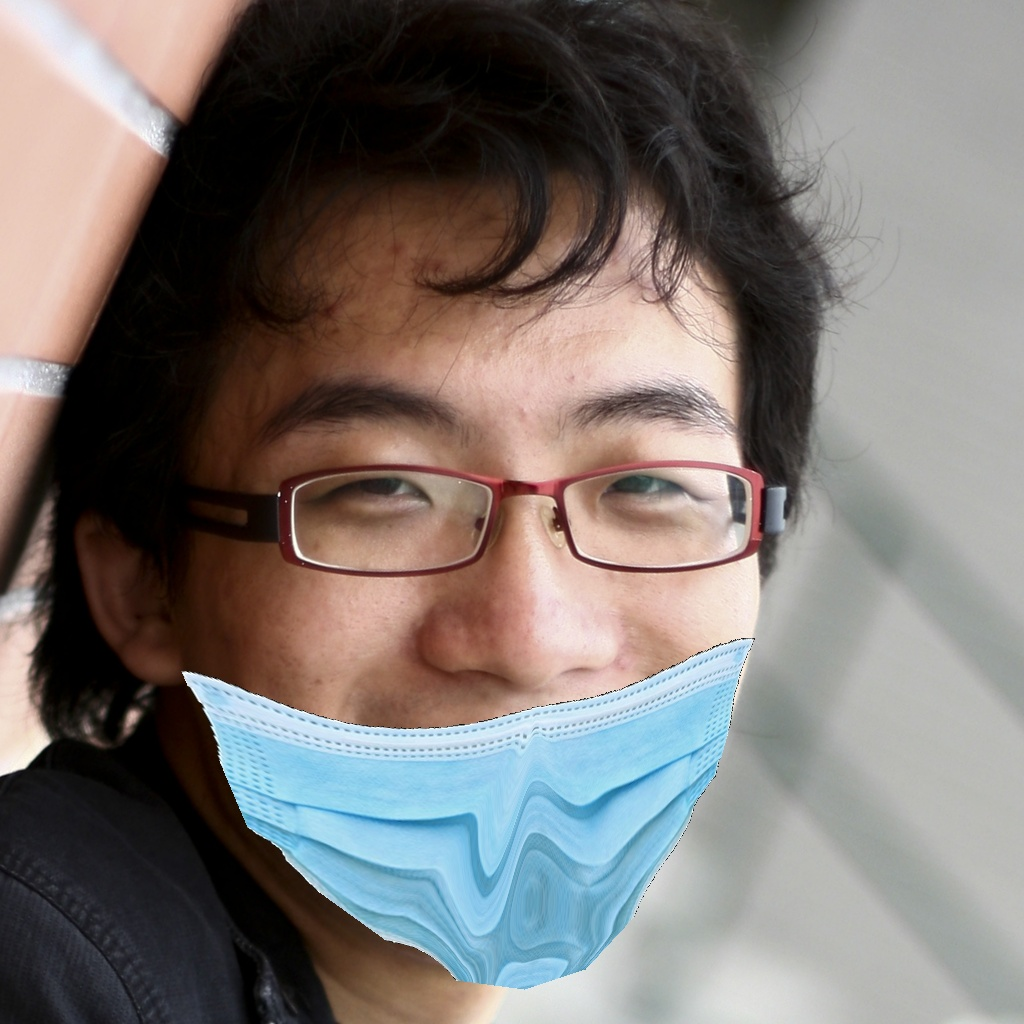mask_weared_incorrect: (159, 382, 801, 1002)
